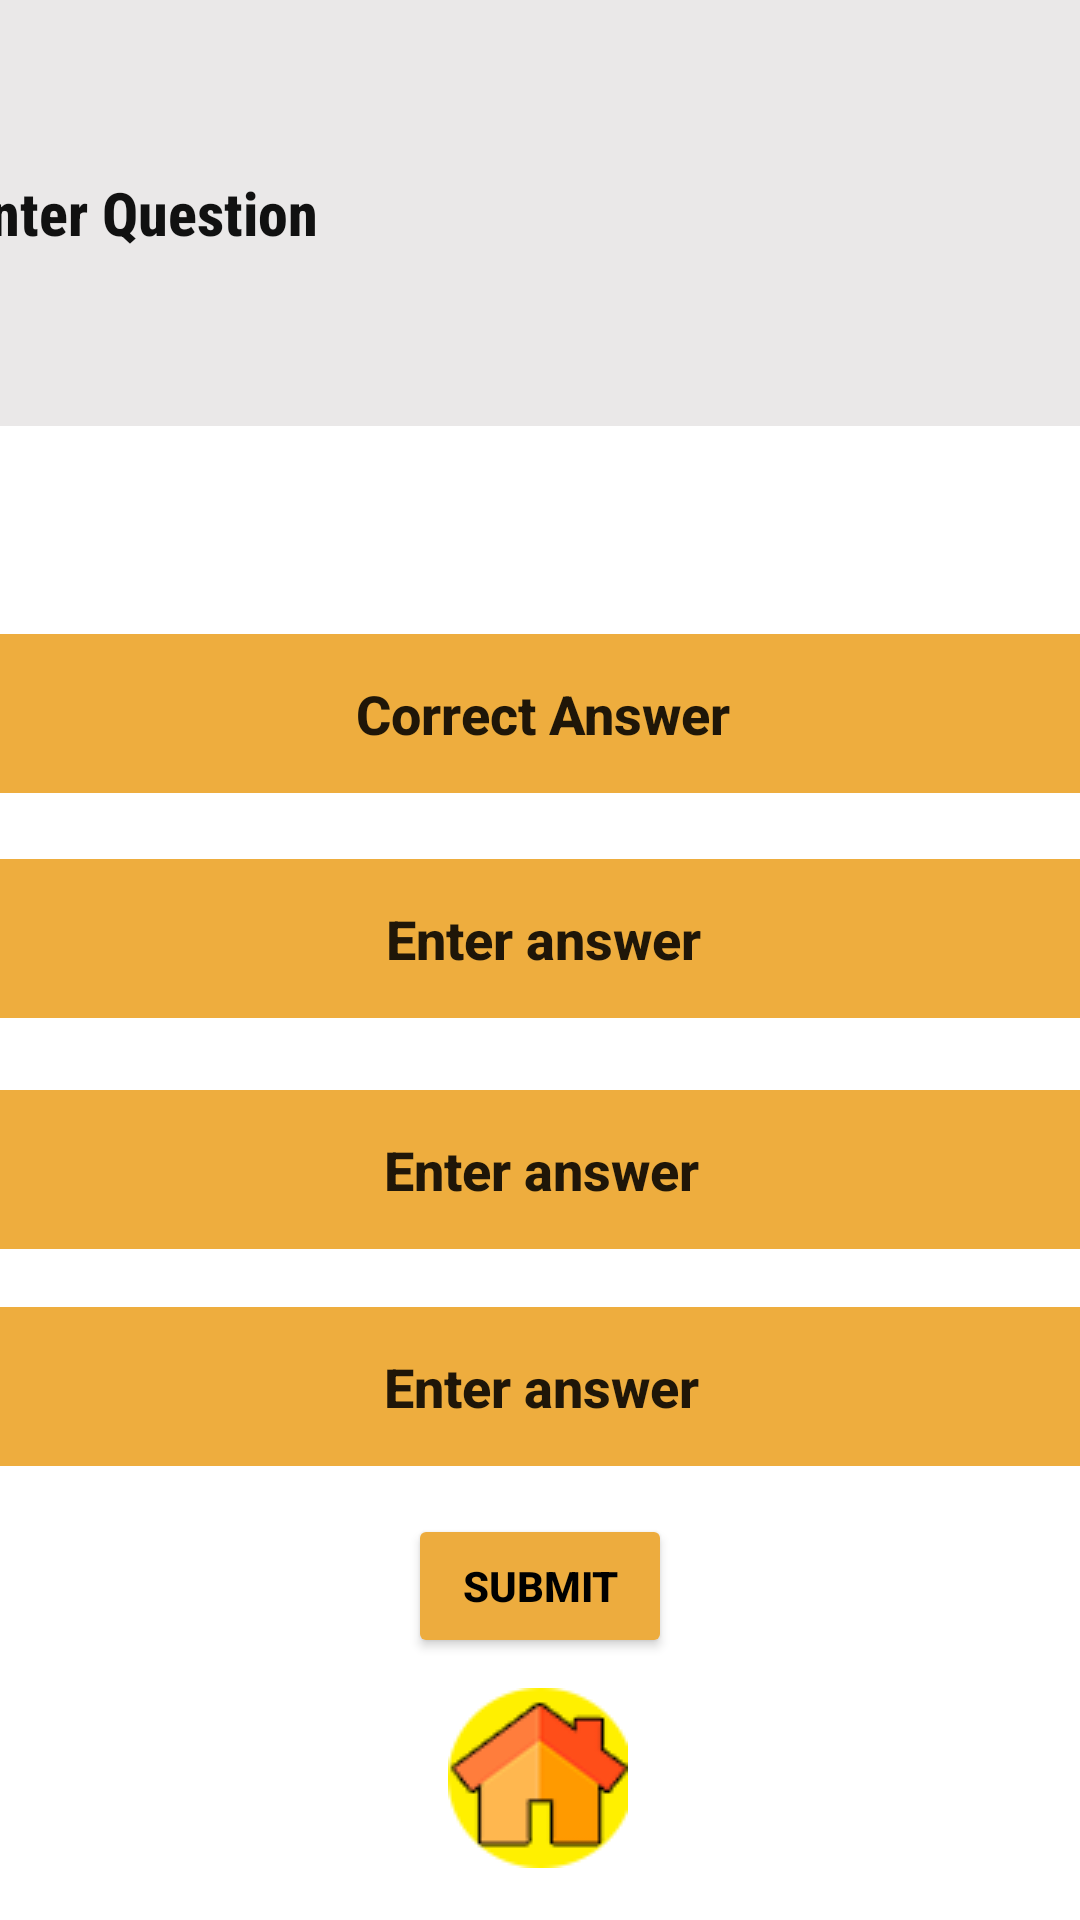

Icon click points for this 1080w x 1920h phone screenshot, format [x,y]:
homeupdate: [538,1778]
